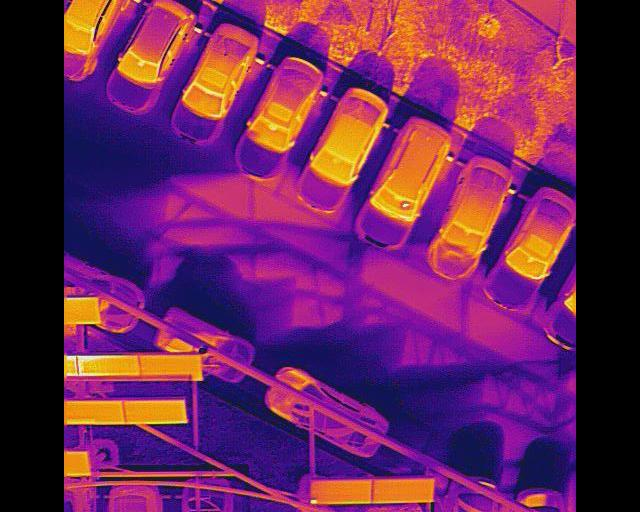Cell: (311, 479, 372, 503)
No-Anomaly: (64, 400, 126, 424), (124, 400, 185, 424), (373, 478, 434, 501), (141, 353, 204, 374)
Unclassified: (77, 354, 142, 375)
